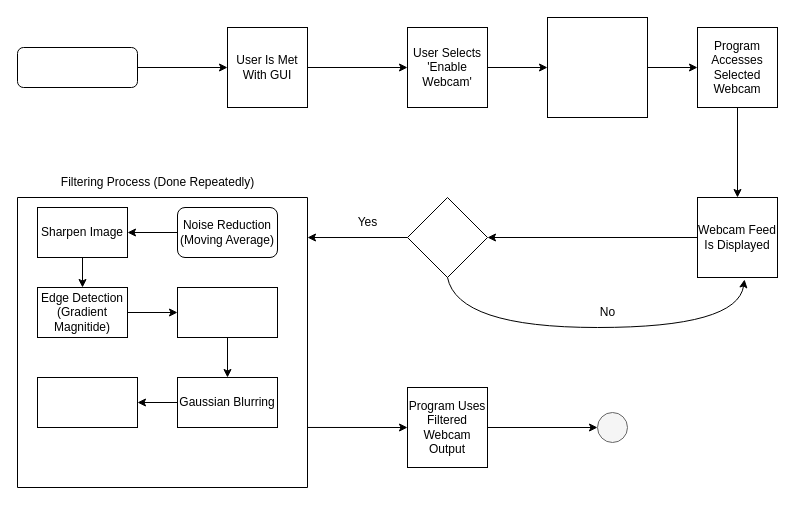
Some shapes in this 795 by 505 pixel diagram are drawn without their labels. The shapes that lost their labels are listed below. From the top down, each one's centre as x and y in pixels, then its label:
point 77,67: Start Program
point 597,67: User Selects Desired Webcam From Dropdown Menu
point 447,237: Toggle Background Blur?
point 227,312: Hysteresis Thresholding
point 87,402: Display Filtered Image
